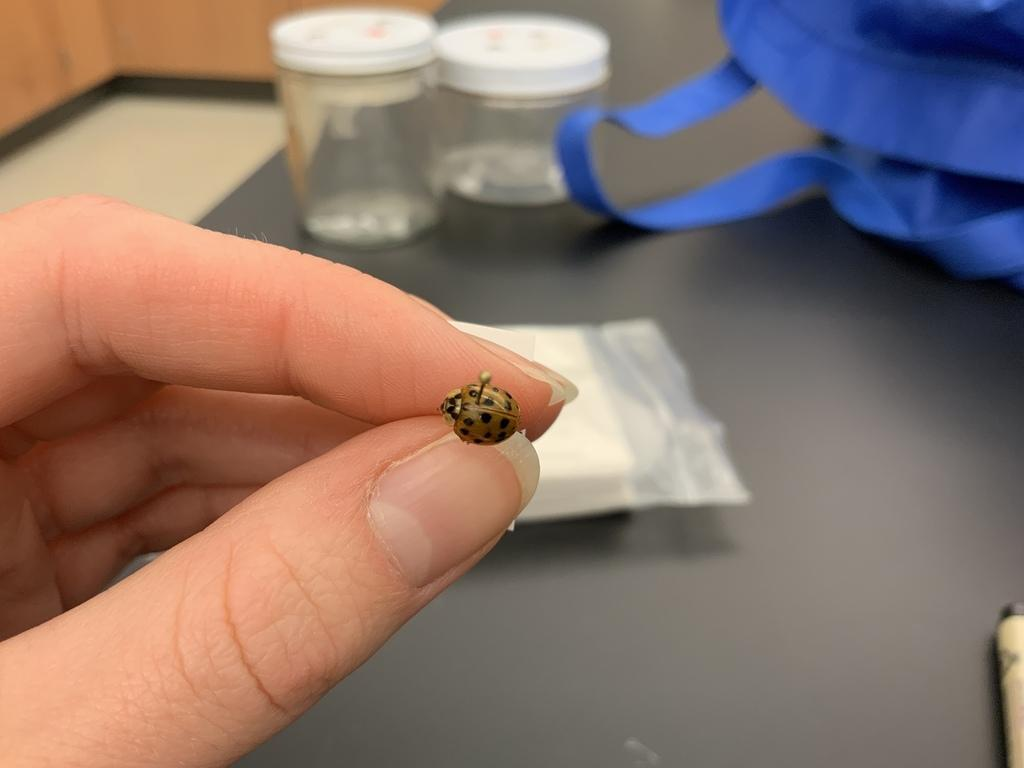ladybug: (437, 381, 523, 451)
